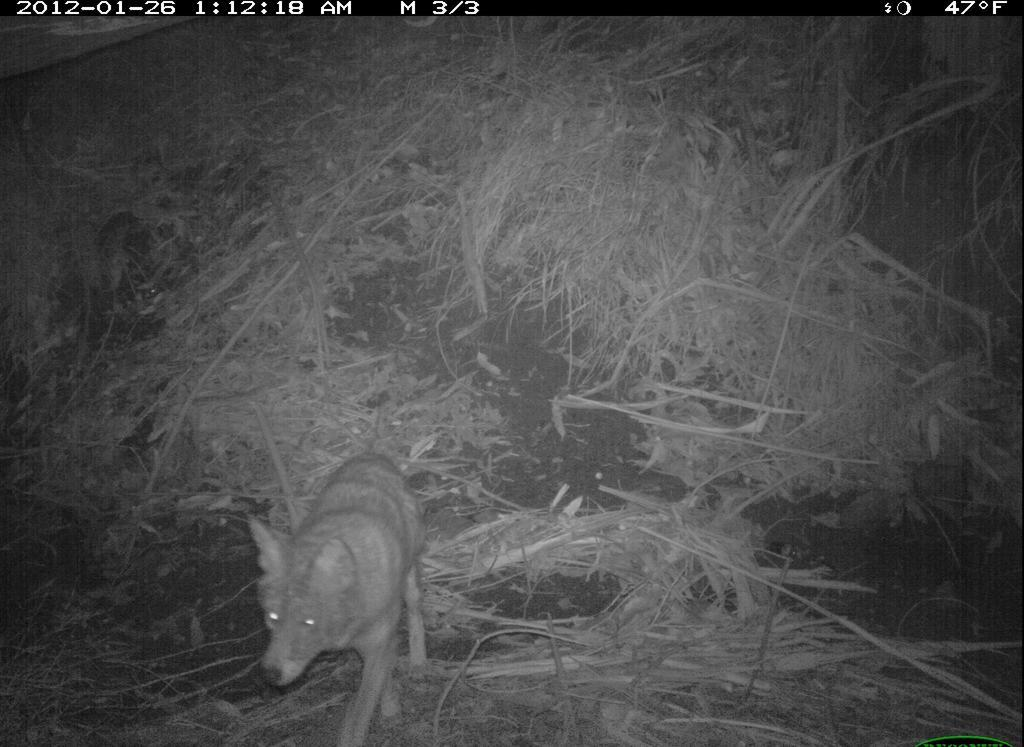coyote: (237, 443, 438, 744)
